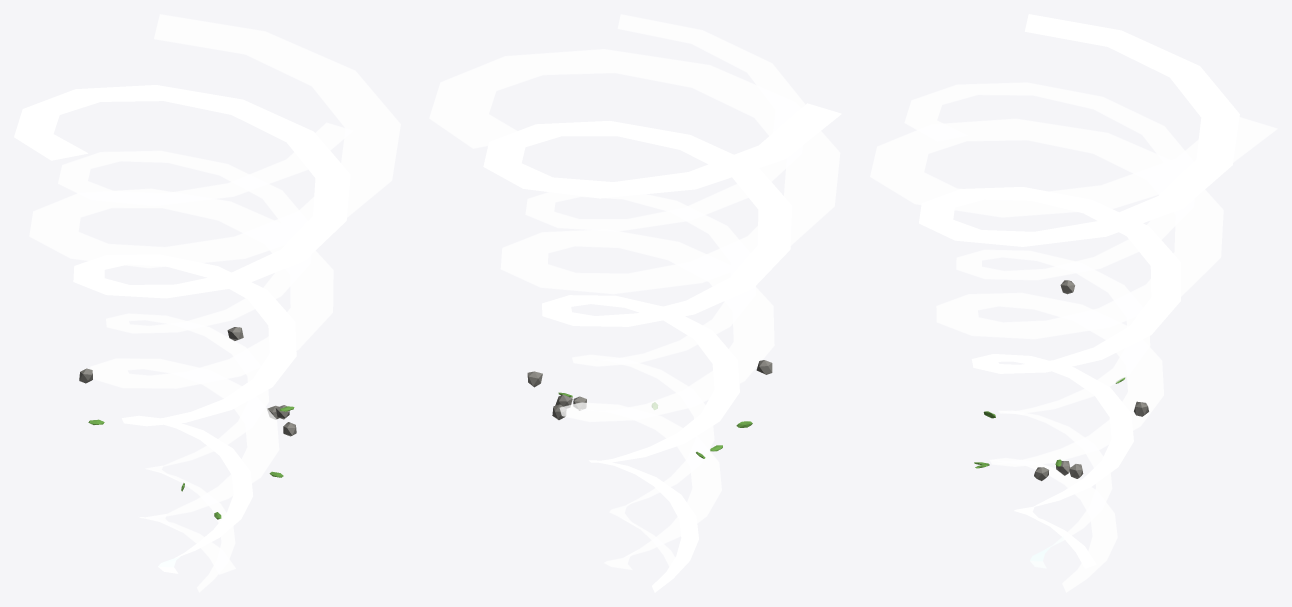
Rendered from fx_tornado_v01.glb.
3 views of the same model, side by side, from view 1: azimuth 30°, elevation 25°; view 2: azimuth 150°, elevation 25°; view 3: azimuth 270°, elevation 25° (orthographic). The views are drawn at different scales.
Parts seen in each view (by area): view 1: tornado; view 2: tornado; view 3: tornado.
Boxes of the visible parts, x1=… form: tornado: x1=14, y1=14, x2=400, y2=592; tornado: x1=429, y1=14, x2=841, y2=592; tornado: x1=870, y1=14, x2=1277, y2=592.
Size of the model in its own units: 3.45 by 4.5 by 3.48.
